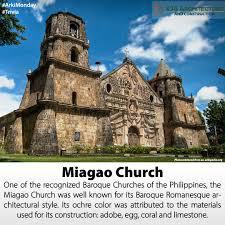miagao_church_miagao_iloilo: (18, 6, 213, 154)
